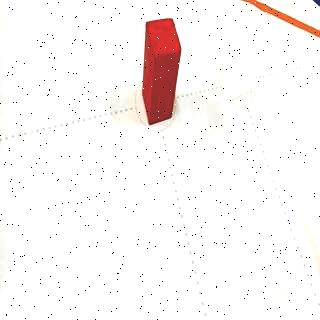redbox: (142, 18, 182, 124)
